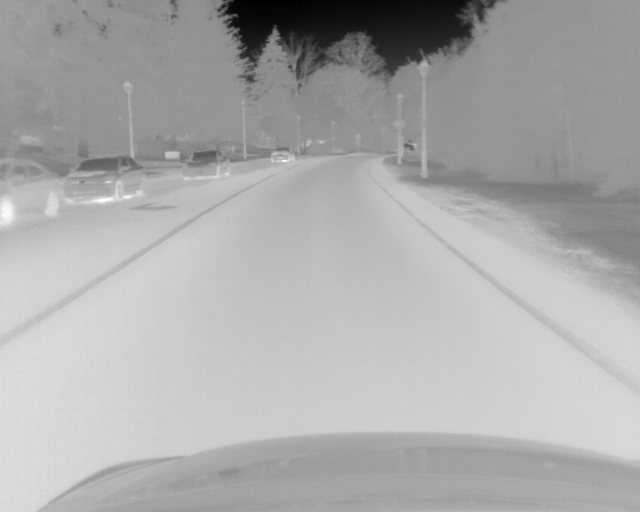car: (1, 159, 65, 225), (64, 155, 148, 202), (181, 150, 232, 181), (270, 147, 295, 163)
